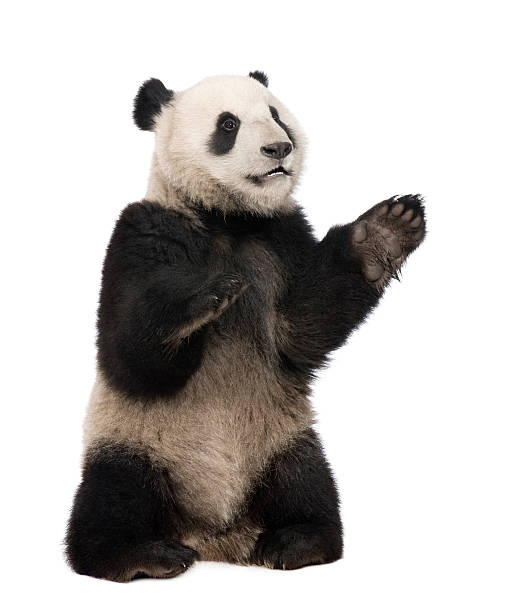panda: (128, 48, 348, 234)
